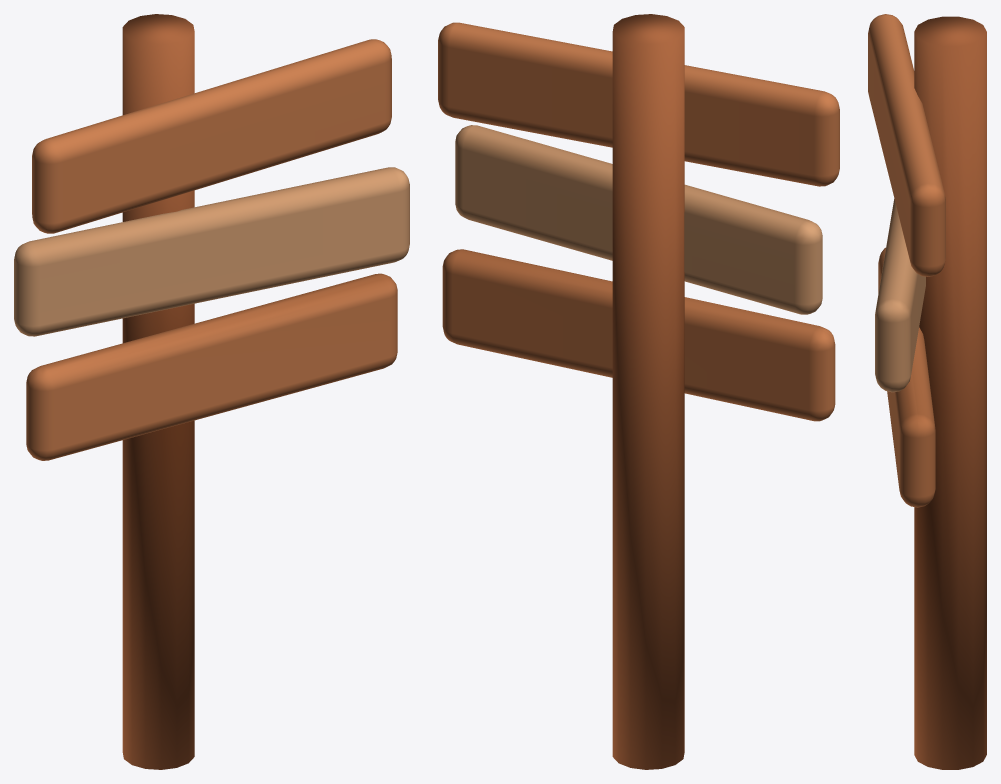
File: prop_sign.glb
3 renders of one model, left to right at view 1: azimuth 30°, elevation 25°; view 2: azimuth 150°, elevation 25°; view 3: azimuth 270°, elevation 25°, orthographic.
Visible parts, largest first — view 1: board1, board2, board0, post; view 2: post, board0, board2, board1; view 3: post, board0, board1, board2.
Part boxes in pixels (box(x1,y1,x2,y2)): board1: box(14, 167, 409, 336); board2: box(26, 273, 397, 460); board0: box(32, 39, 391, 233); post: box(122, 14, 194, 769); post: box(612, 14, 684, 769); board0: box(438, 22, 839, 186); board2: box(442, 249, 835, 421); board1: box(455, 125, 822, 314); post: box(914, 16, 986, 769); board0: box(868, 14, 945, 276); board1: box(875, 199, 925, 392); board2: box(878, 247, 935, 507).
Size of what is drawn, in the model's own units: 1.2 by 2.2 by 0.3272.
